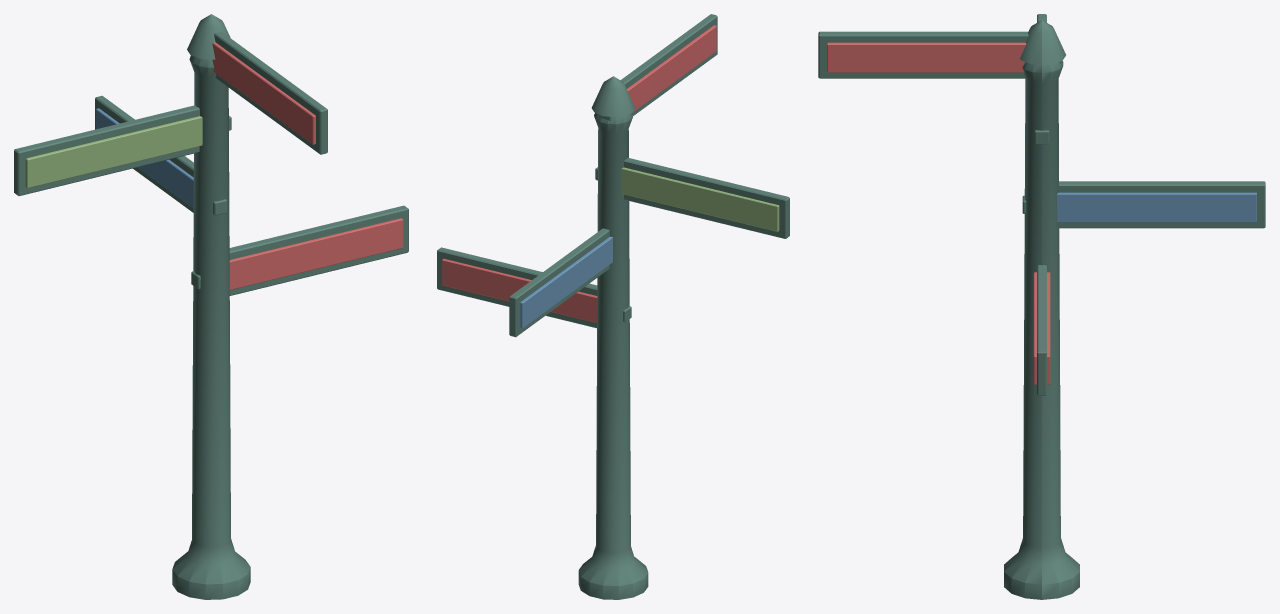
3 views of the same model, side by side, from view 1: azimuth 30°, elevation 25°; view 2: azimuth 150°, elevation 25°; view 3: azimuth 270°, elevation 25° (orthographic). The views are drawn at different scales.
Visible parts, largest first — view 1: wayfinding-sign; view 2: wayfinding-sign; view 3: wayfinding-sign.
Part boxes in pixels (x1,y1,x2,y2): wayfinding-sign: (14,14,408,599); wayfinding-sign: (437,14,789,599); wayfinding-sign: (818,14,1265,599).
Bounding box in the file's own units: 1.84 × 2.56 × 1.84.
